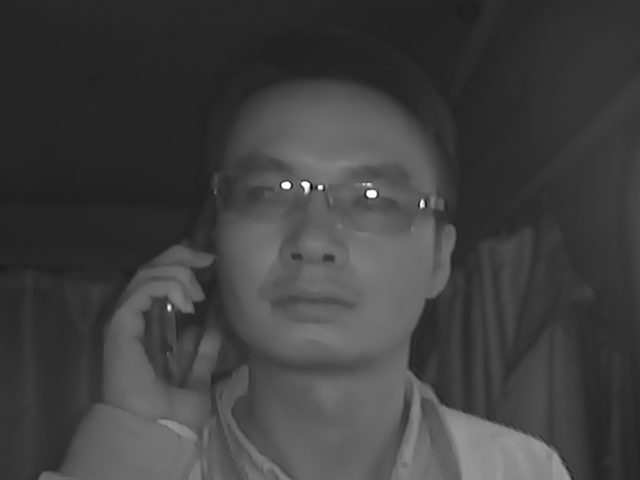hand: (93, 240, 225, 427)
